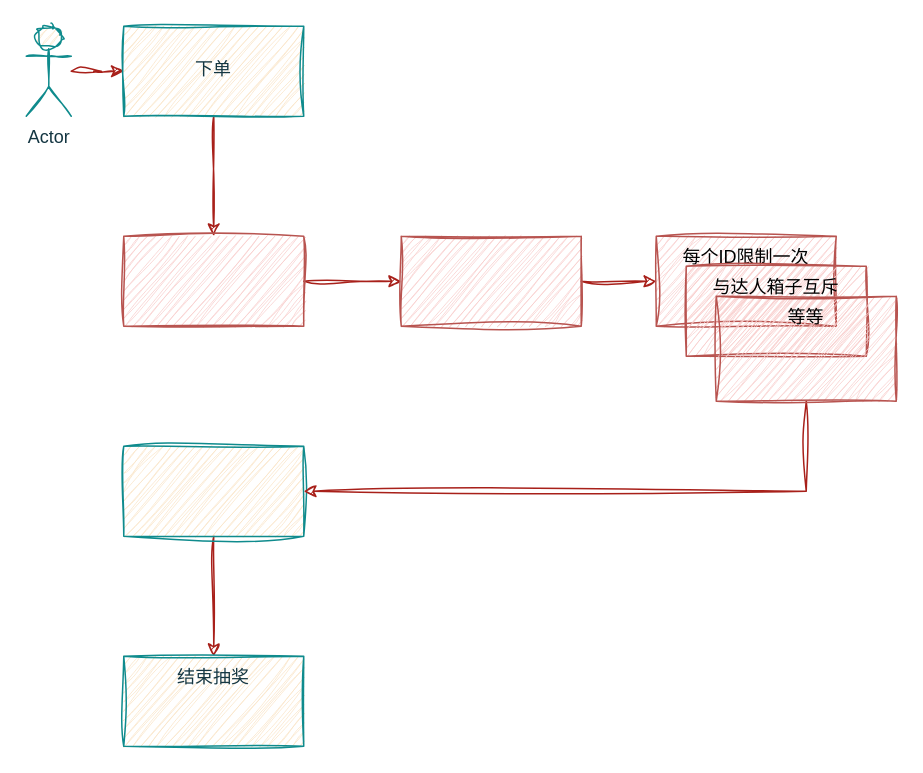
Some shapes in this 923 by 773 pixel diagram are drawn without their labels. Here are the shapes that lost their labels. From the top down, the centre of each, then its label:
the point at 213,280: 抽奖前
the point at 490,280: 根据配置 生成校验链
the point at 213,490: 开始抽奖
